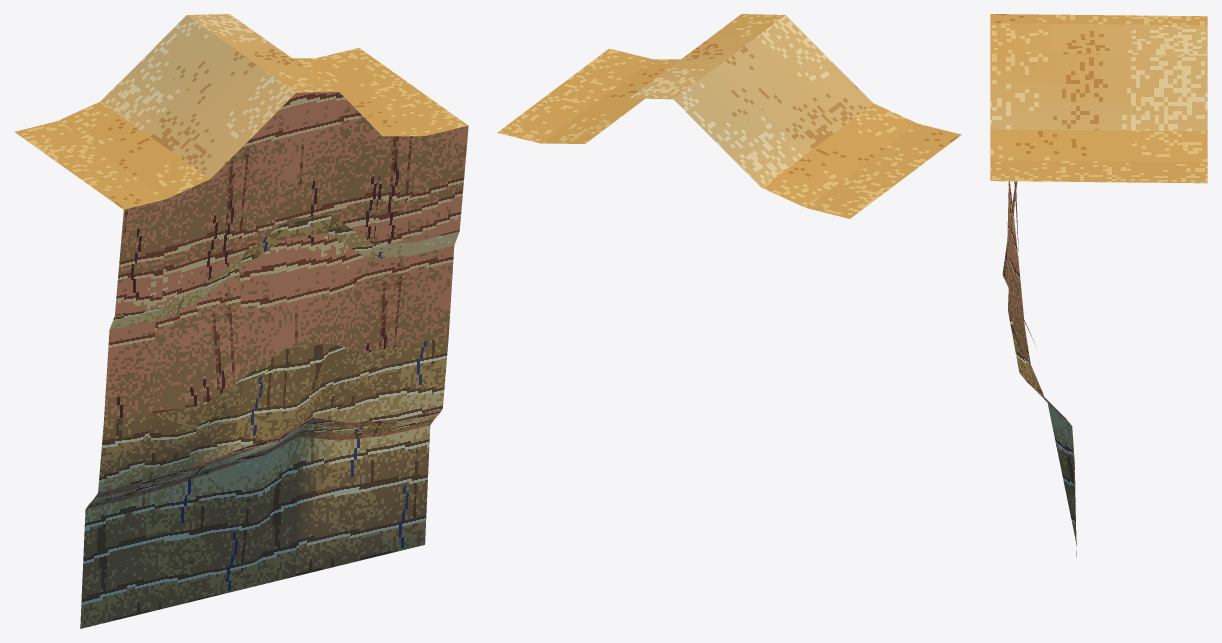
Rendered from wland.canyon_wall.glb.
The picture shows the model from 3 angles, left to right: view 1: azimuth 30°, elevation 25°; view 2: azimuth 150°, elevation 25°; view 3: azimuth 270°, elevation 25°; orthographic projection. The views are drawn at different scales.
Visible parts, largest first — view 1: kit_shell_face, kit_shell_cap; view 2: kit_shell_cap; view 3: kit_shell_cap, kit_shell_face.
Part boxes in pixels (x1,y1,x2,y2): kit_shell_face: (80,92,468,628); kit_shell_cap: (15,14,467,209); kit_shell_cap: (497,14,961,218); kit_shell_cap: (990,14,1207,183); kit_shell_face: (1002,181,1076,556).
Bounding box in the file's own units: 8 × 11.66 × 4.4.
3 materials, 3 textured.
